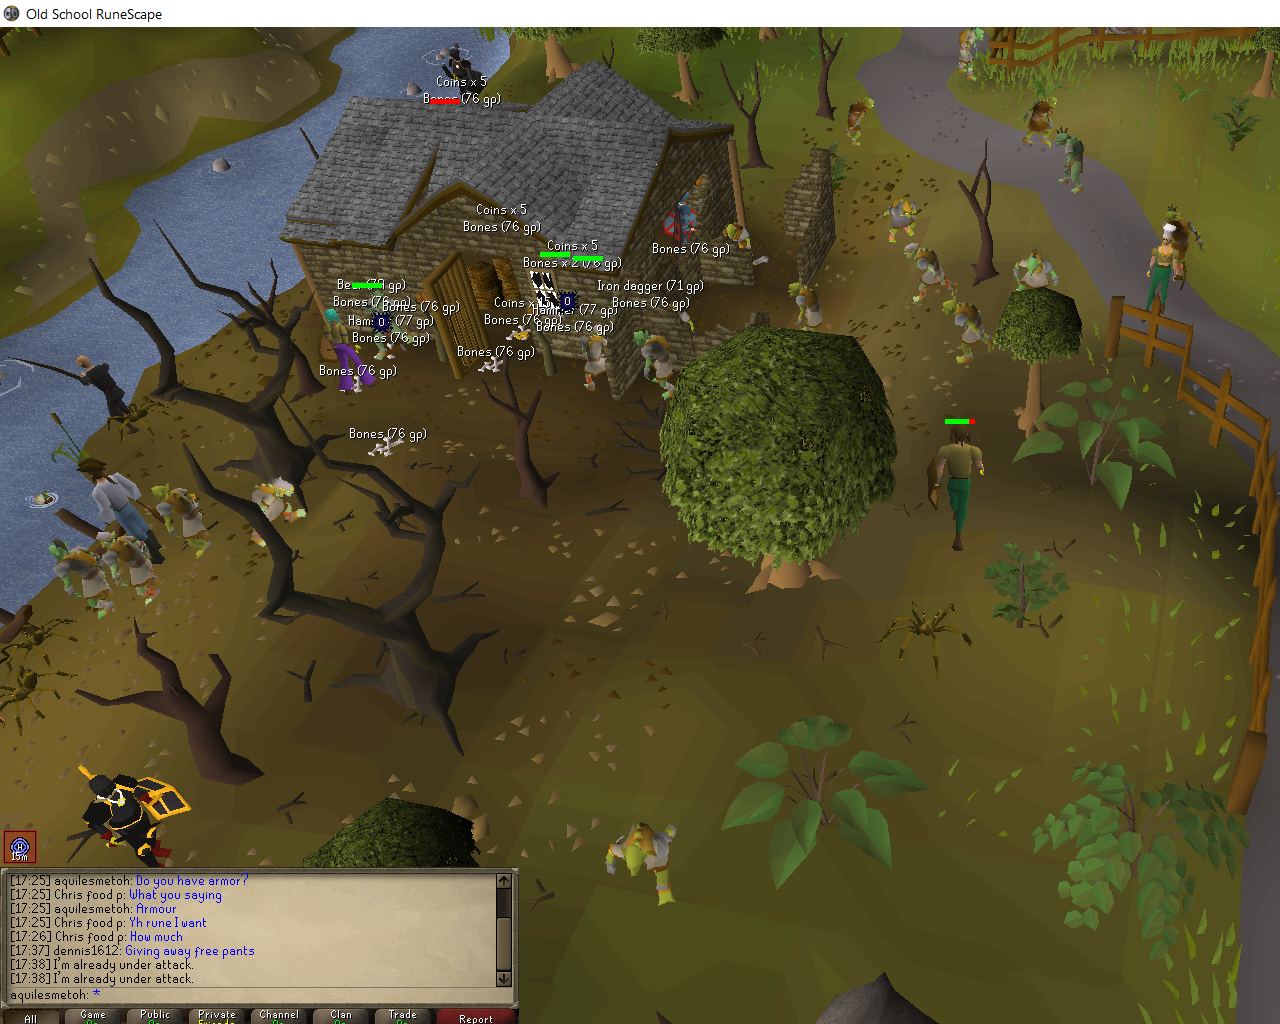Goblin: (599, 815, 682, 906), (48, 538, 116, 622), (96, 531, 165, 605), (150, 483, 214, 559), (243, 475, 309, 549), (630, 331, 686, 400), (941, 300, 1000, 365), (903, 245, 960, 302), (579, 325, 616, 393), (1013, 249, 1060, 296), (1056, 125, 1088, 194), (1020, 94, 1058, 147), (785, 282, 824, 332), (880, 196, 921, 243), (843, 97, 876, 150), (721, 222, 755, 265)
